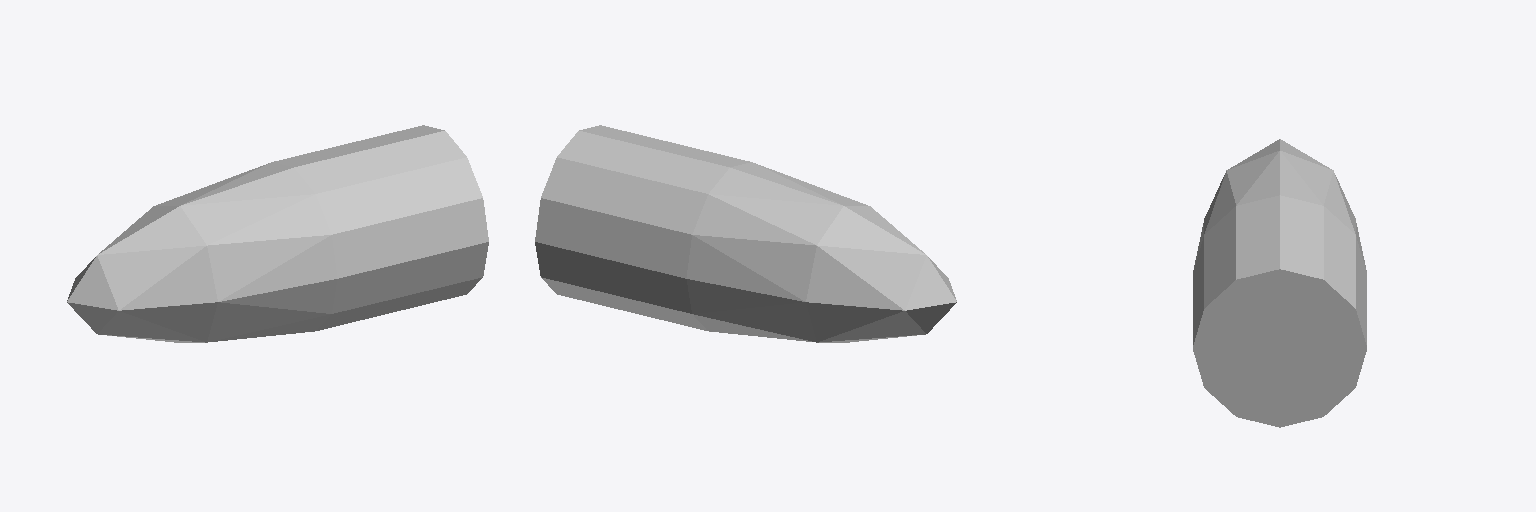
The model's file is bullet.obj.
3 views of the same model, side by side, from view 1: azimuth 30°, elevation 25°; view 2: azimuth 150°, elevation 25°; view 3: azimuth 270°, elevation 25° (orthographic).
Parts seen in each view (by area): view 1: the_node.005_tri_240_geometry; view 2: the_node.005_tri_240_geometry; view 3: the_node.005_tri_240_geometry.
Part boxes in pixels (bbox=[...]): the_node.005_tri_240_geometry: bbox=[67, 125, 488, 342]; the_node.005_tri_240_geometry: bbox=[535, 125, 956, 342]; the_node.005_tri_240_geometry: bbox=[1193, 139, 1366, 427].
Bounding box in the file's own units: 0.03 × 0.012 × 0.012.